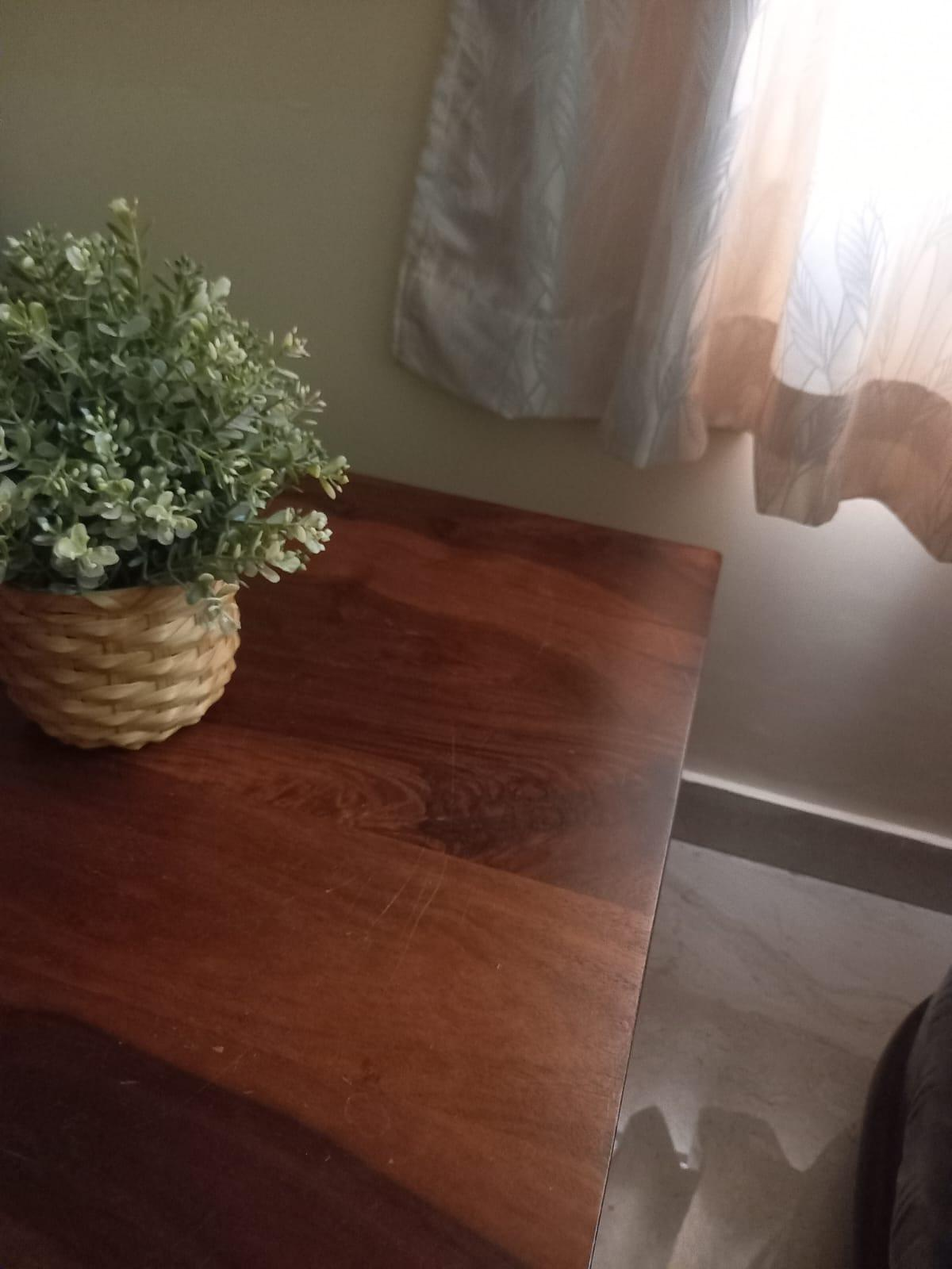vase: (0, 207, 309, 744)
